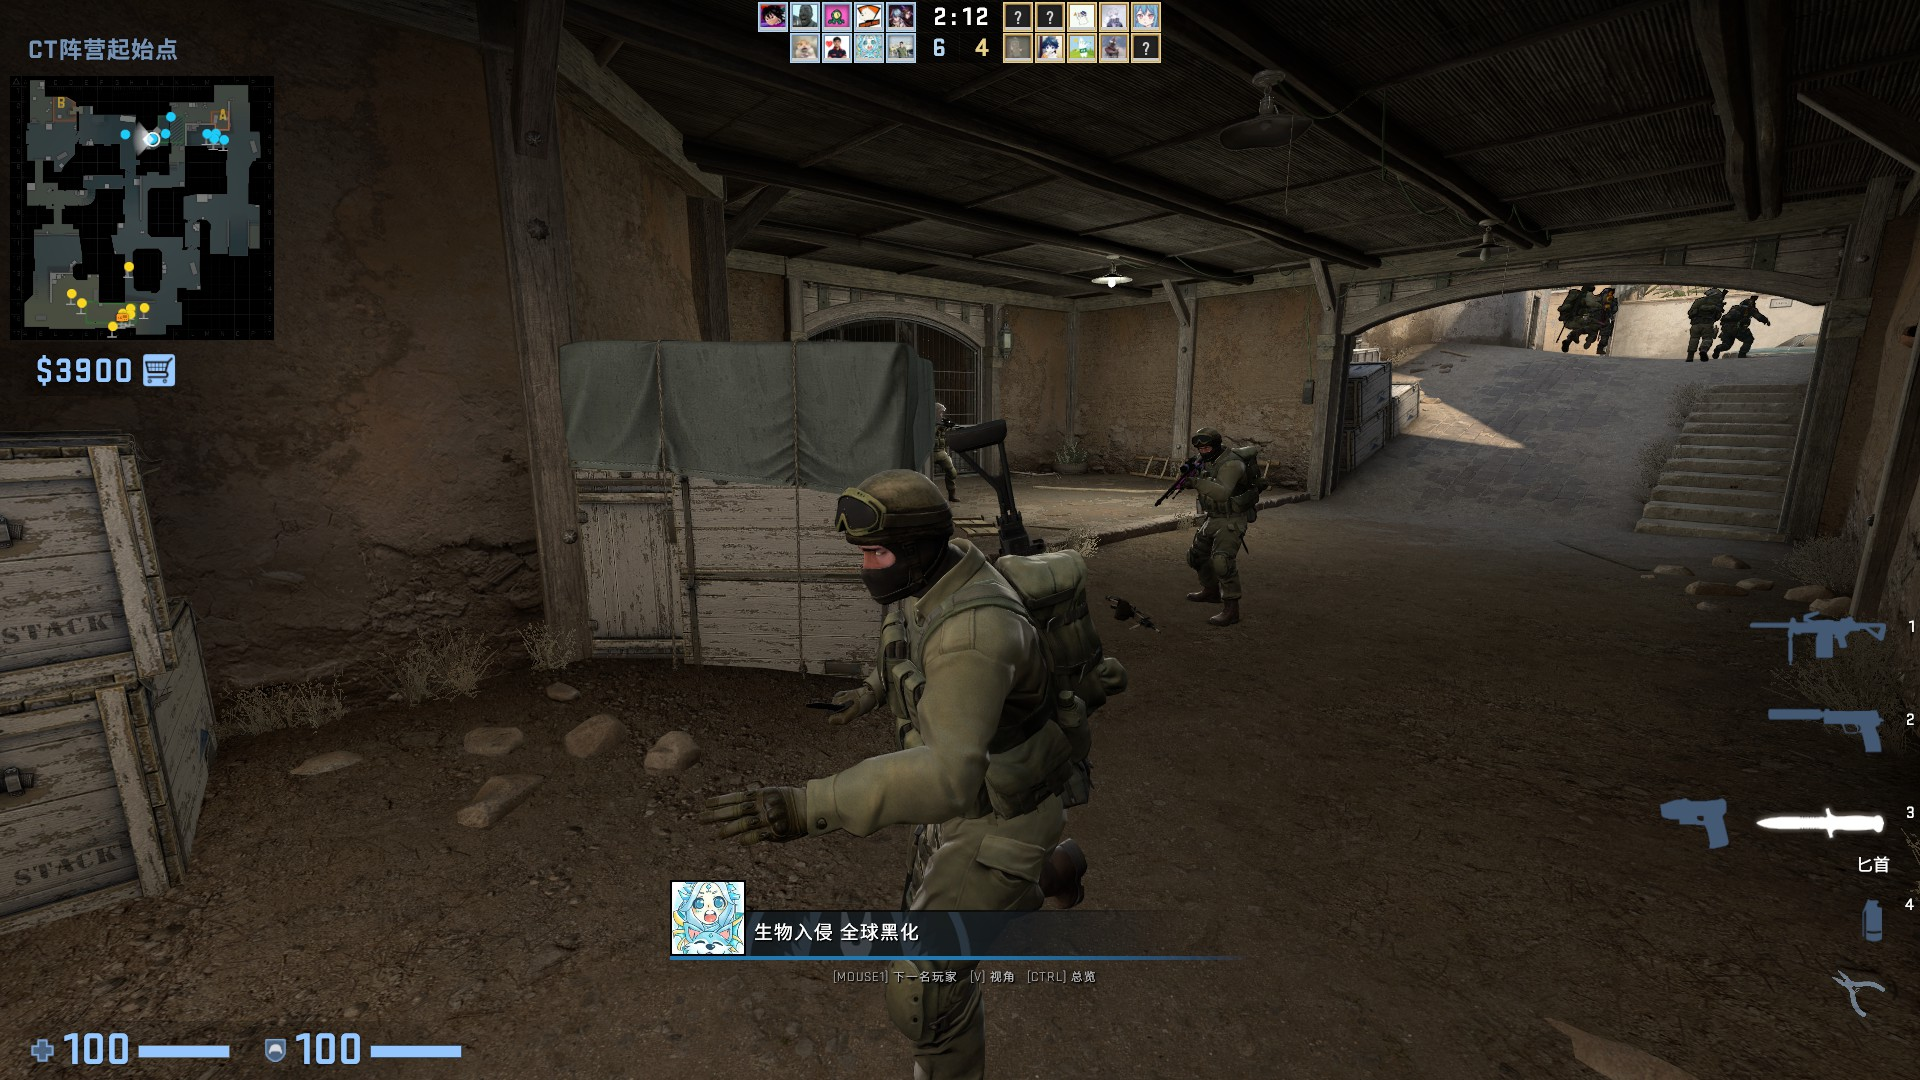head: (838, 464, 962, 611), (1192, 426, 1223, 461), (932, 402, 949, 420), (1703, 286, 1725, 298), (1741, 296, 1757, 309), (1580, 282, 1596, 293), (1600, 286, 1616, 294)
